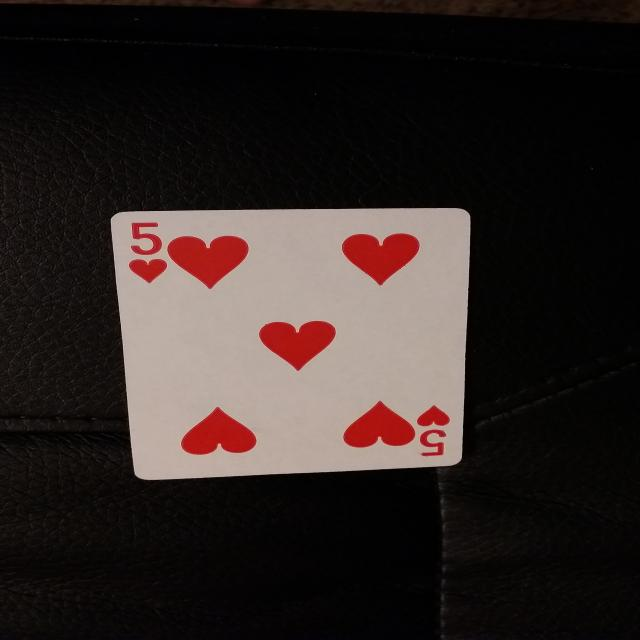5h: (117, 216, 183, 290), (394, 401, 460, 464)
